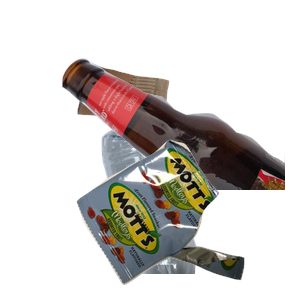cardboard: (75, 59, 237, 176)
glass: (60, 56, 300, 236)
plastic: (99, 120, 289, 300)
trash: (74, 137, 300, 300)
